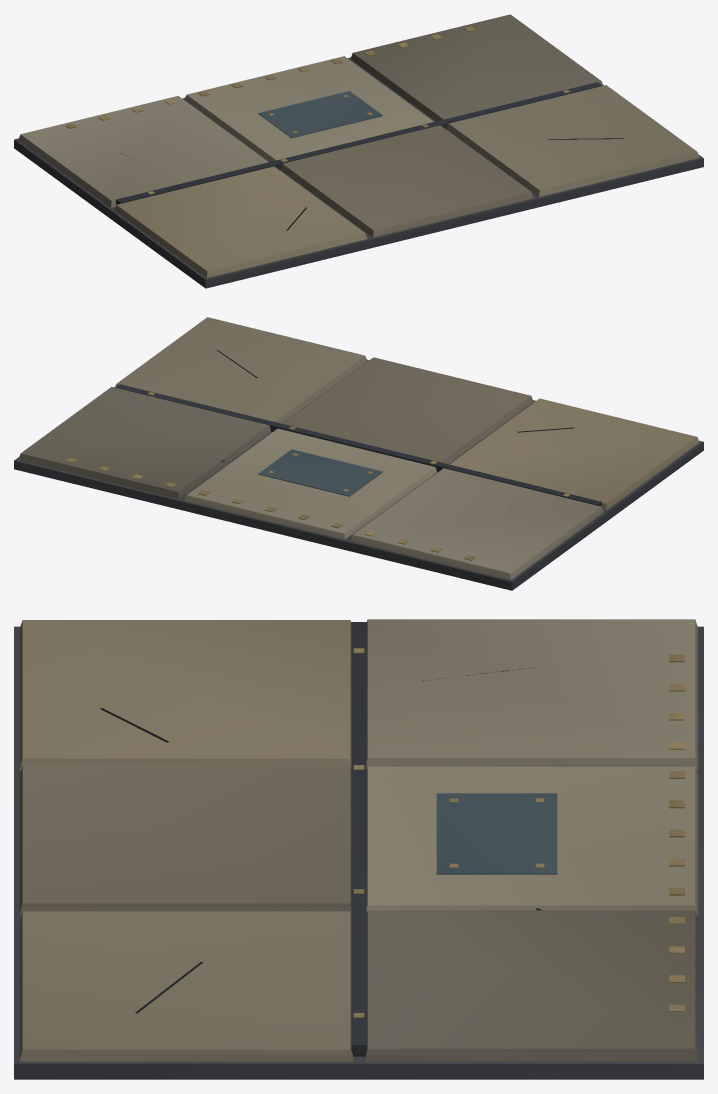
File: sidewalk_panel.glb
3 renders of one model, top to bottom at view 1: azimuth 30°, elevation 25°; view 2: azimuth 150°, elevation 25°; view 3: azimuth 270°, elevation 25°, orthographic. The views are drawn at different scales.
Visible parts, largest first — view 1: sidewalk_panel; view 2: sidewalk_panel; view 3: sidewalk_panel.
Part boxes in pixels (bbox=[...]): sidewalk_panel: bbox=[14, 14, 703, 288]; sidewalk_panel: bbox=[14, 317, 703, 590]; sidewalk_panel: bbox=[14, 619, 703, 1079].
Bounding box in the file's own units: 6 × 0.18 × 4.
